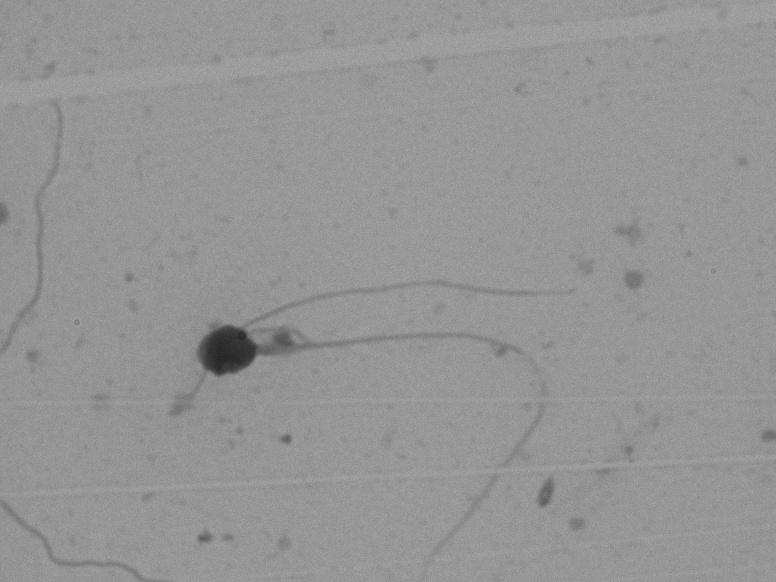Abnormal: (165, 273, 618, 566)
